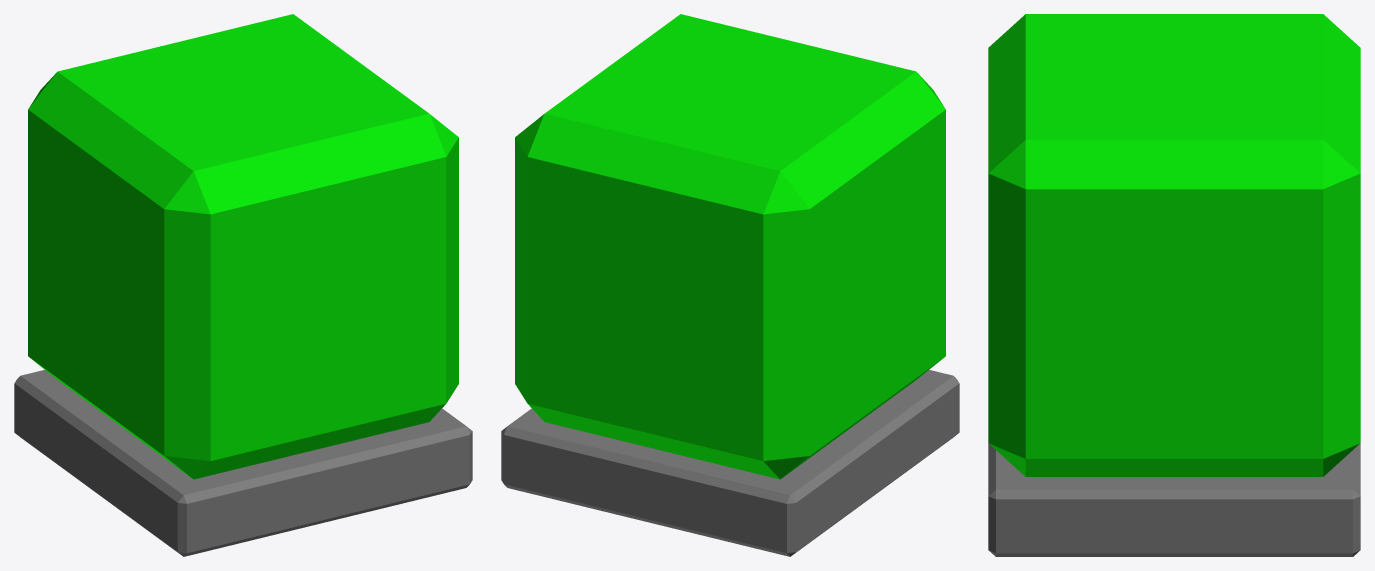
The model's file is Wall.fbx.
3 renders of one model, left to right at view 1: azimuth 30°, elevation 25°; view 2: azimuth 150°, elevation 25°; view 3: azimuth 270°, elevation 25°, orthographic. The views are drawn at different scales.
Parts seen in each view (by area): view 1: pCube2, pCube1; view 2: pCube2, pCube1; view 3: pCube2, pCube1.
Boxes of the visible parts, <box> form: pCube2: <box>28,14,458,479</box>; pCube1: <box>14,370,472,556</box>; pCube2: <box>515,14,945,479</box>; pCube1: <box>501,370,959,556</box>; pCube2: <box>988,14,1360,476</box>; pCube1: <box>988,443,1360,556</box>.
Bounding box in the file's own units: 1 × 1.2 × 1.
